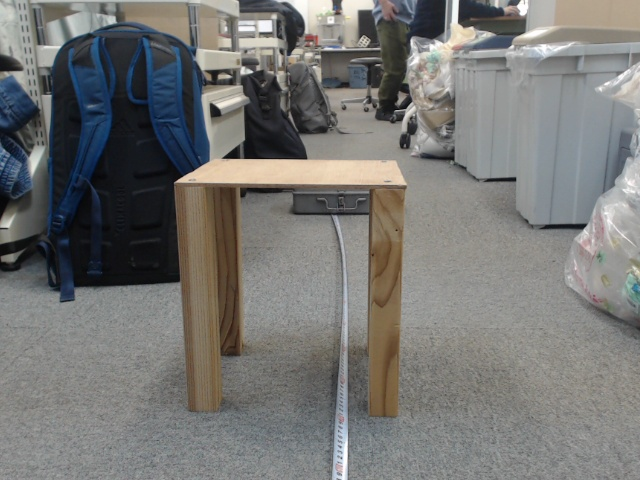desk: (288, 142, 515, 407)
